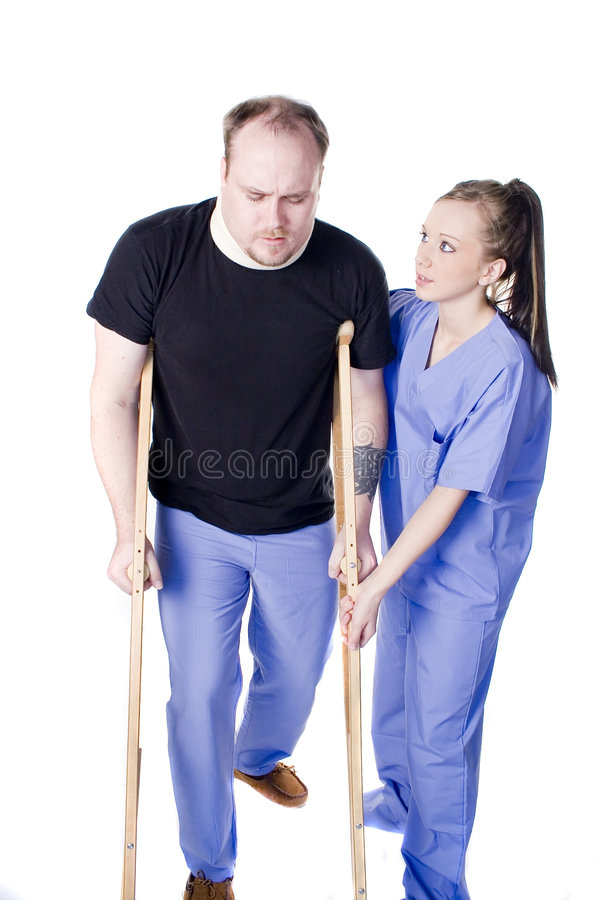crutches: (86, 97, 395, 900)
